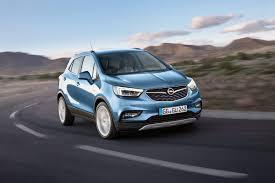opel: (166, 86, 173, 95)
